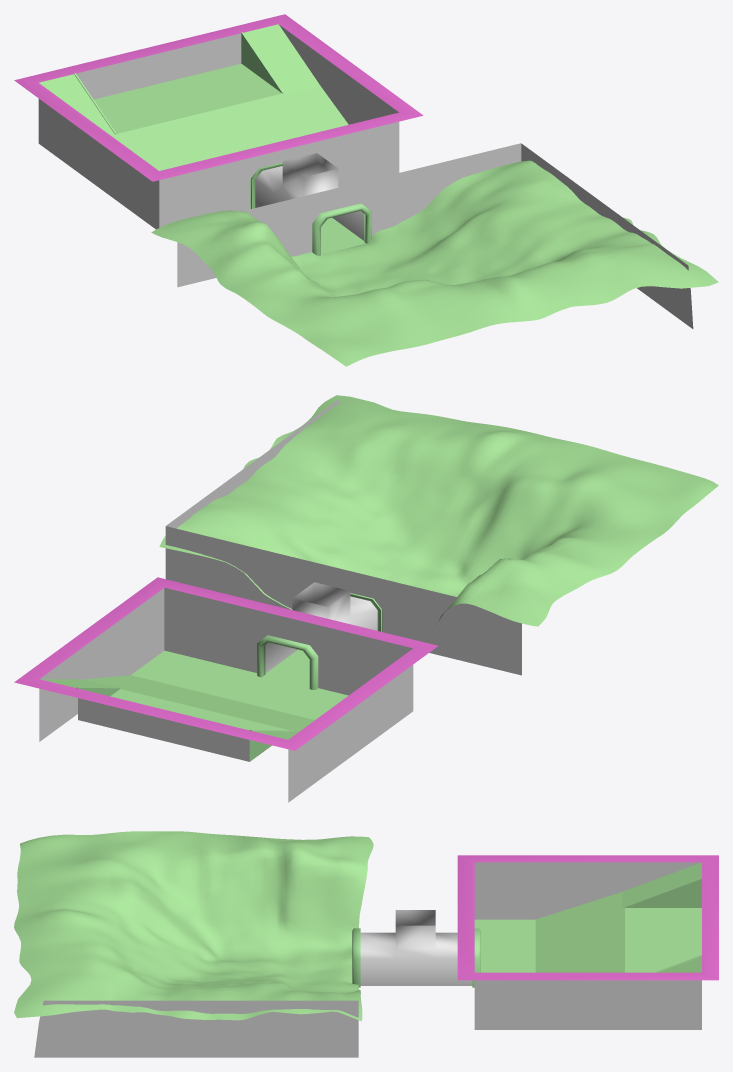
The model's file is Pool.fbx.
3 views of the same model, one above another, from view 1: azimuth 30°, elevation 25°; view 2: azimuth 150°, elevation 25°; view 3: azimuth 270°, elevation 25° (orthographic). The views are drawn at different scales.
Parts seen in each view (by area): view 1: Pool; view 2: Pool; view 3: Pool.
Part boxes in pixels (x1,y1,x2,y2): Pool: (14, 14, 718, 366); Pool: (14, 395, 718, 802); Pool: (14, 831, 718, 1057).
Size of the model in its own units: 55.68 by 10.91 by 93.78.
